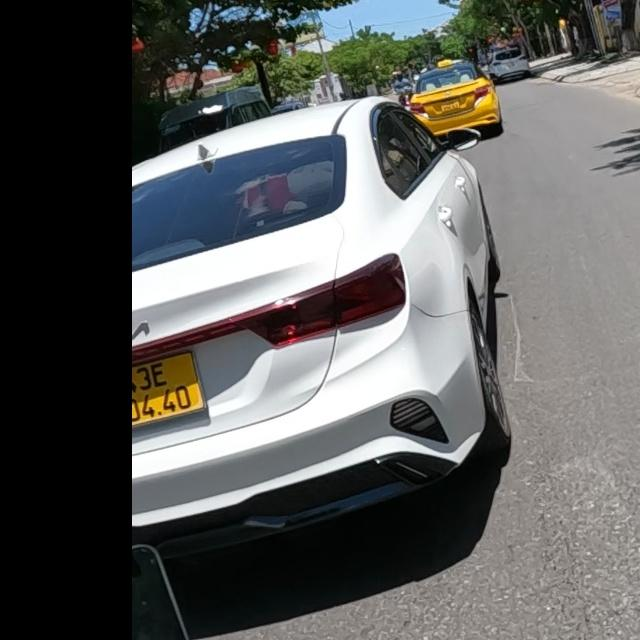license-plate: (130, 350, 208, 429)
